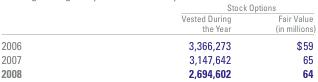table: (0, 0, 314, 79)
table column: (100, 0, 252, 79), (0, 0, 100, 79), (252, 0, 314, 79)
table column header: (0, 0, 314, 35)
table row: (0, 11, 314, 35), (0, 35, 314, 51), (0, 51, 314, 65), (0, 65, 314, 79), (0, 0, 314, 11)
table spanning cell: (100, 0, 314, 11)
